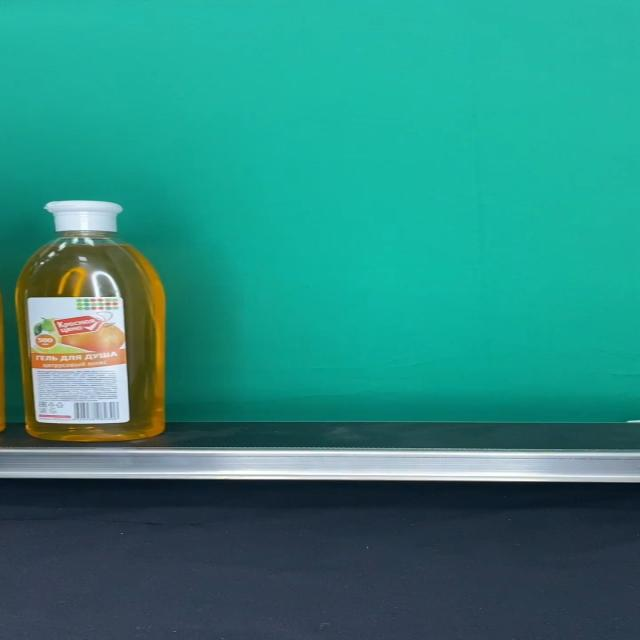Bottle: (15, 201, 166, 441)
Cap: (44, 201, 123, 232)
